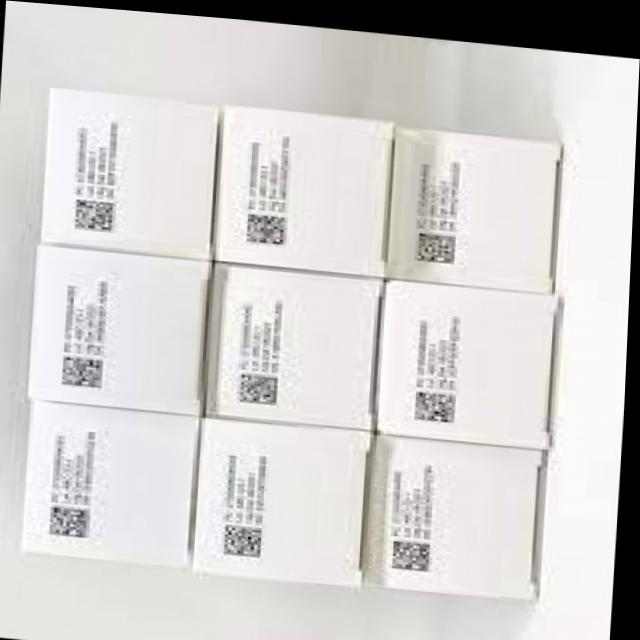datamatrix: (230, 363, 288, 408), (239, 206, 297, 247), (67, 194, 122, 236), (384, 527, 439, 569), (47, 500, 103, 541), (55, 352, 110, 393), (411, 379, 464, 420), (219, 516, 271, 557), (410, 220, 462, 261)
